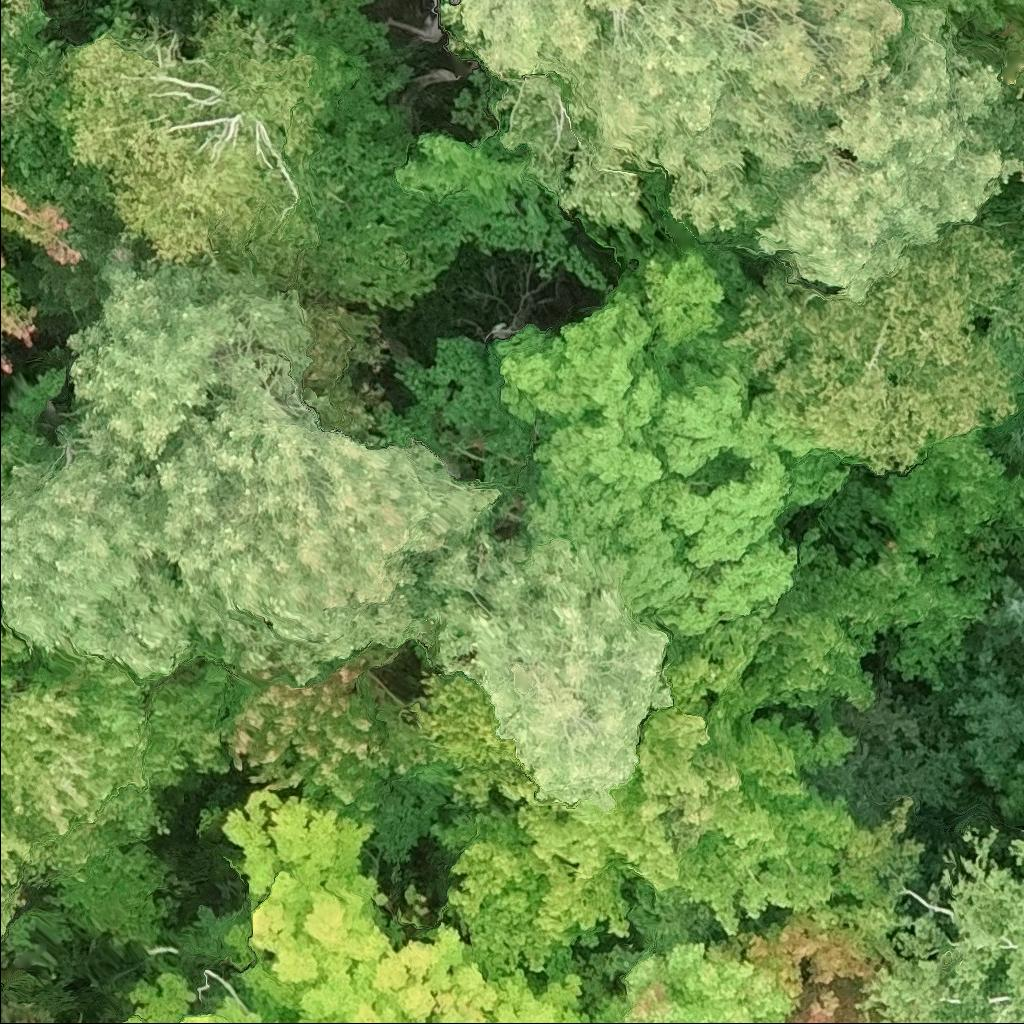crown: (0, 256, 506, 679), (432, 0, 1023, 301), (490, 243, 858, 635), (446, 705, 746, 982), (48, 9, 349, 285), (724, 211, 1023, 476), (413, 525, 674, 811), (664, 526, 943, 733), (0, 602, 169, 879), (677, 702, 861, 938), (707, 795, 922, 993), (223, 788, 412, 987), (238, 920, 603, 1023), (220, 646, 419, 816), (854, 823, 1023, 1023), (586, 938, 803, 1023), (1, 210, 153, 324), (0, 162, 87, 346), (81, 969, 297, 1023), (0, 363, 66, 497), (970, 572, 1023, 663), (893, 0, 1023, 33), (790, 980, 876, 1023), (0, 48, 30, 137), (0, 871, 21, 941), (0, 0, 38, 37), (0, 349, 19, 378), (1008, 161, 1023, 191), (1015, 64, 1023, 105)
